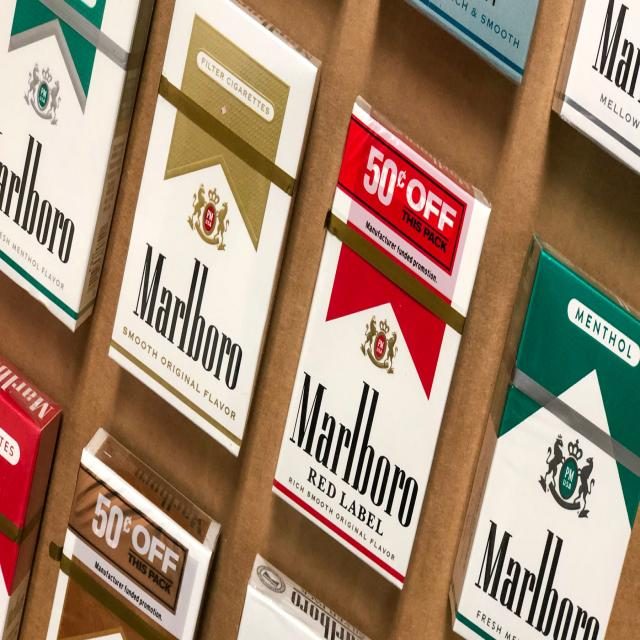marlboro: (111, 2, 307, 485), (293, 90, 460, 603), (459, 228, 640, 640), (0, 0, 157, 356)
